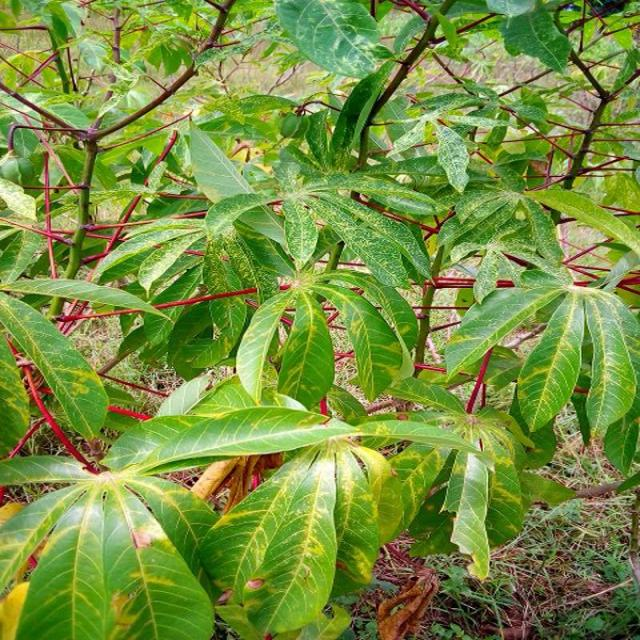cassava leaf: (2, 1, 640, 637), (13, 478, 217, 638)
